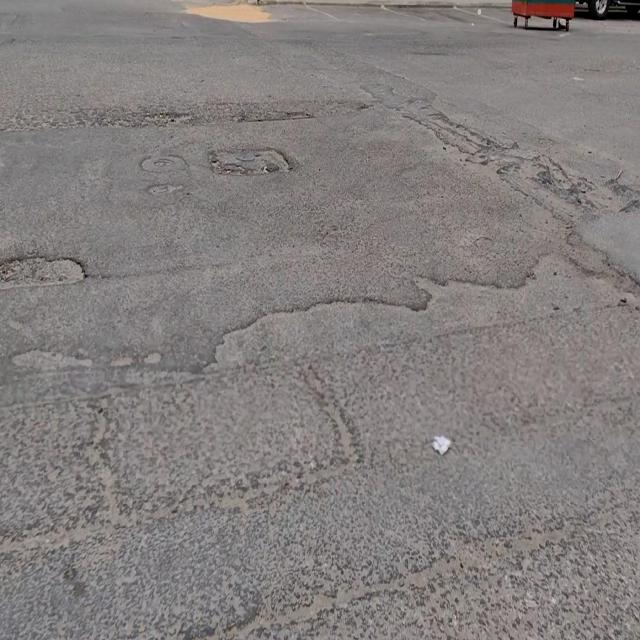Potholes: (0, 253, 87, 293), (208, 144, 294, 179)
